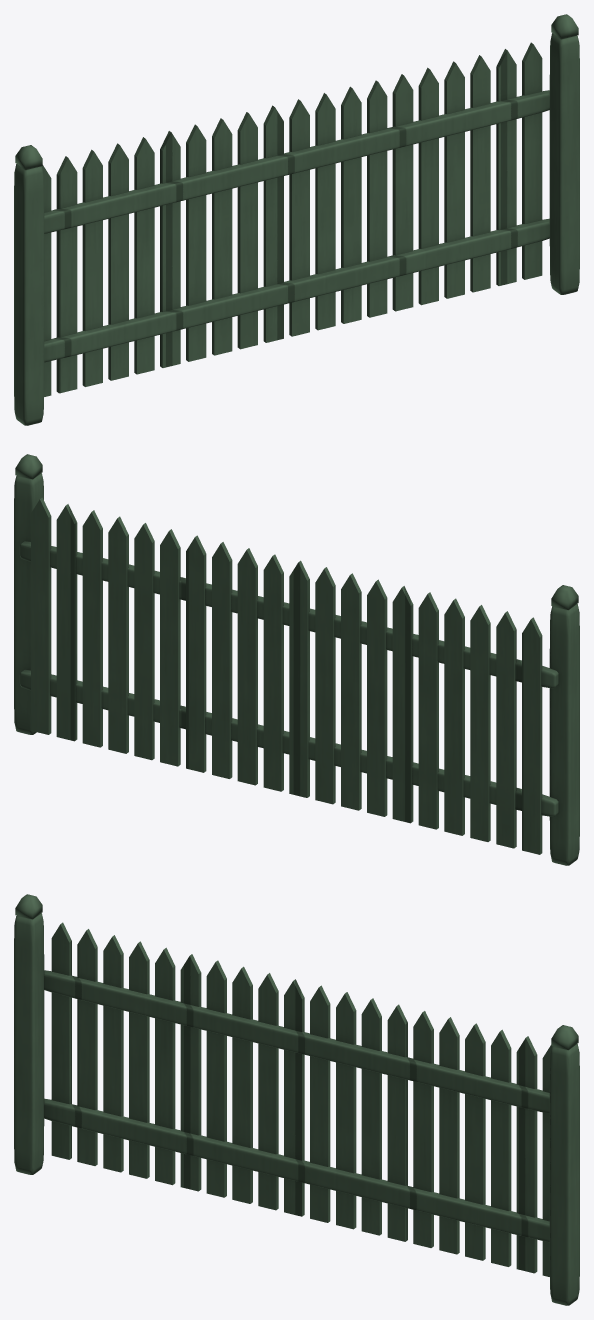
The model's file is green-picket.glb.
3 renders of one model, top to bottom at view 1: azimuth 30°, elevation 25°; view 2: azimuth 150°, elevation 25°; view 3: azimuth 330°, elevation 25°, orthographic.
Visible parts, largest first — view 1: paint_primary; view 2: paint_primary; view 3: paint_primary.
Boxes of the visible parts, box(x1,y1,x2,y2) form: paint_primary: box(14, 14, 579, 425); paint_primary: box(14, 454, 579, 865); paint_primary: box(14, 894, 579, 1305).
Size of the model in its own units: 2.49 by 1.18 by 0.135.
Materials: 1 (1 with a texture image).
